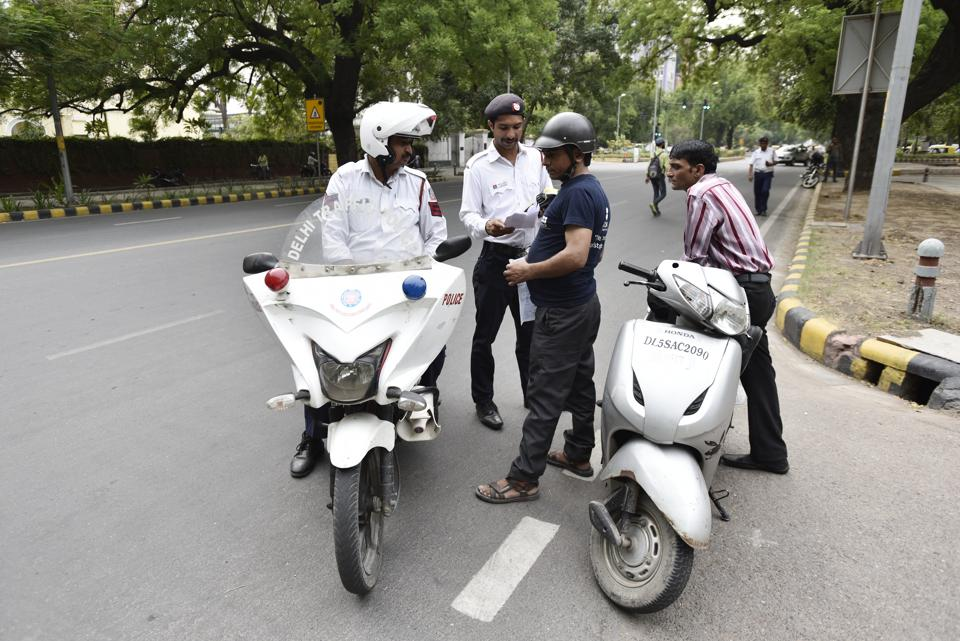helmet: (358, 89, 442, 159), (533, 110, 602, 154)
